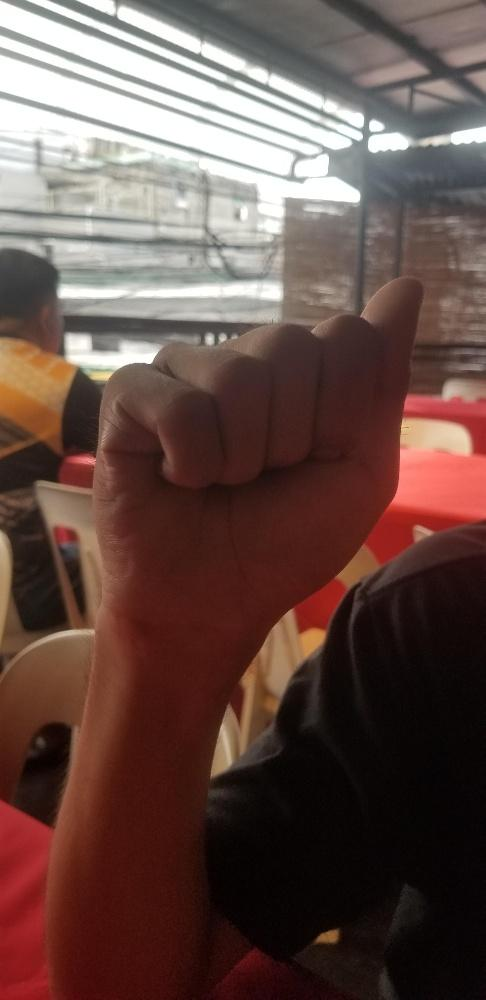a: (89, 273, 428, 637)
